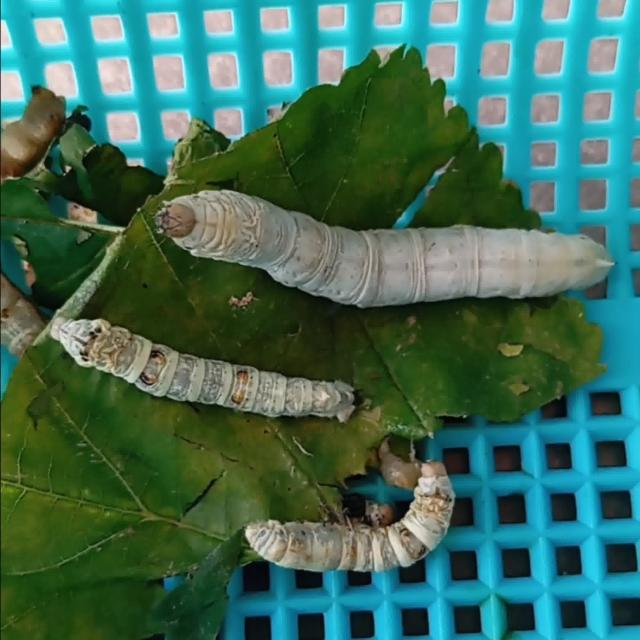Grasserie: (134, 156, 617, 308), (33, 295, 376, 429), (227, 452, 487, 599)
